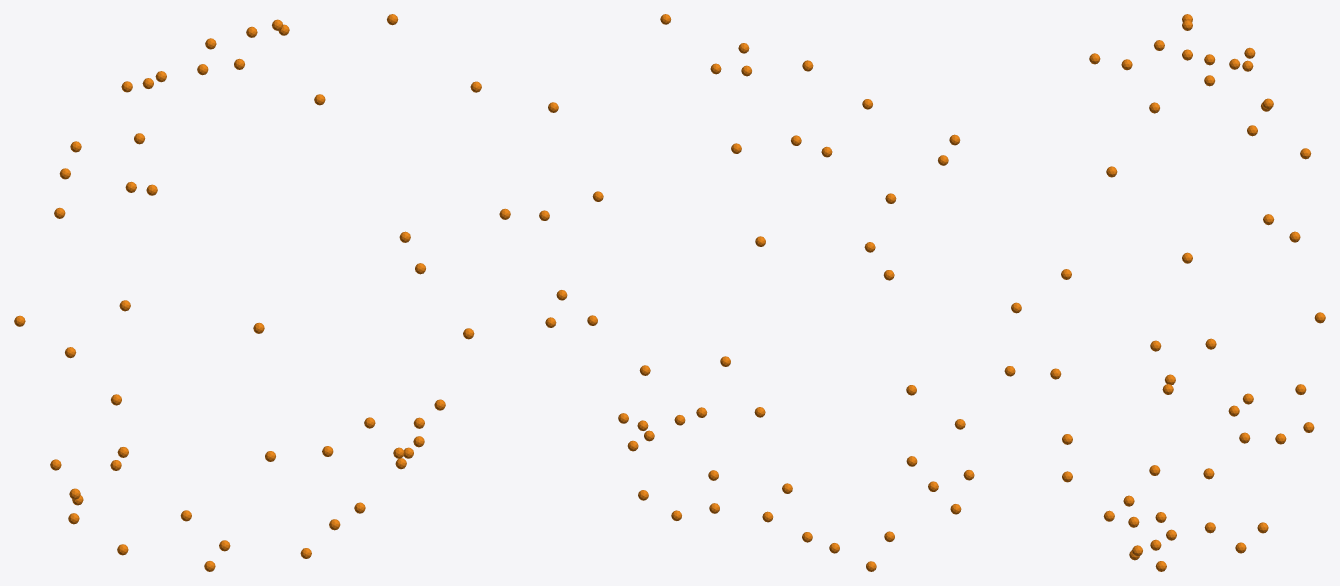
Rendered from citrus_b_fruit.obj.
3 views of the same model, side by side, from view 1: azimuth 30°, elevation 25°; view 2: azimuth 150°, elevation 25°; view 3: azimuth 270°, elevation 25° (orthographic). The views are drawn at different scales.
Visible parts, largest first — view 1: fruit; view 2: fruit; view 3: fruit.
Boxes of the visible parts, box(x1,y1,x2,y2) form: fruit: box(14, 14, 510, 571); fruit: box(539, 14, 1021, 571); fruit: box(1050, 14, 1325, 571).
Size of the model in its own units: 3.63 by 3.82 by 1.87.
